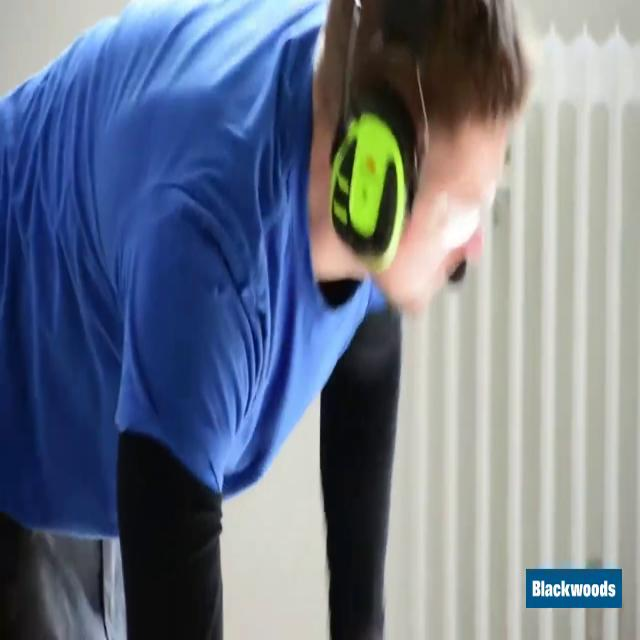earmuff: (327, 78, 417, 274)
